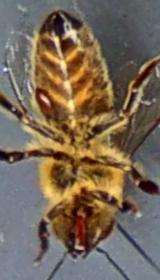varroa_mite: (29, 83, 63, 117)
